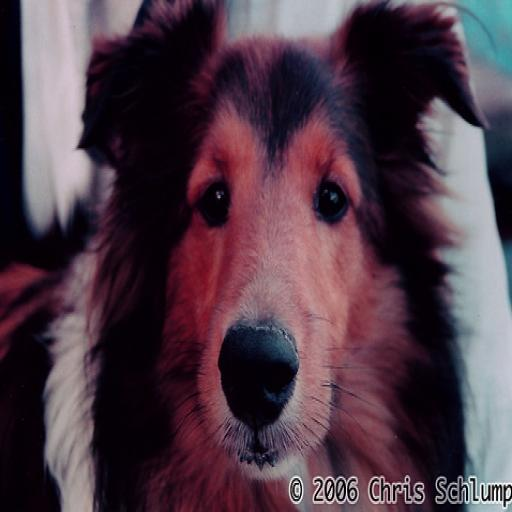dog_face: (90, 0, 491, 457)
